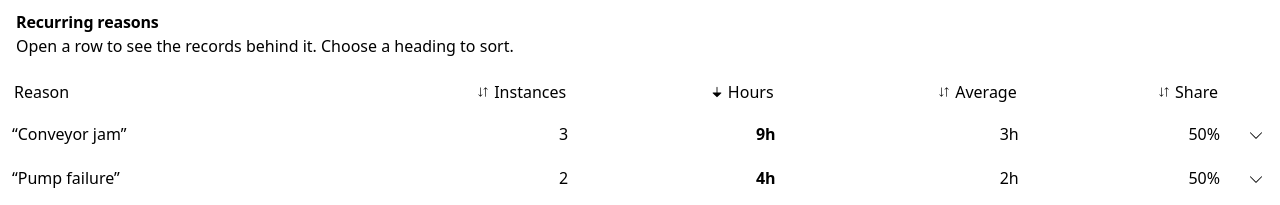
Test: CategoryTable stillKey (full motion) › starts the table over when the sort changes (no animation on sort)
The width and height of the screenshot is (1280, 205).
Click the button "Instances": {"x": 521, "y": 92} [470,79,572,105]
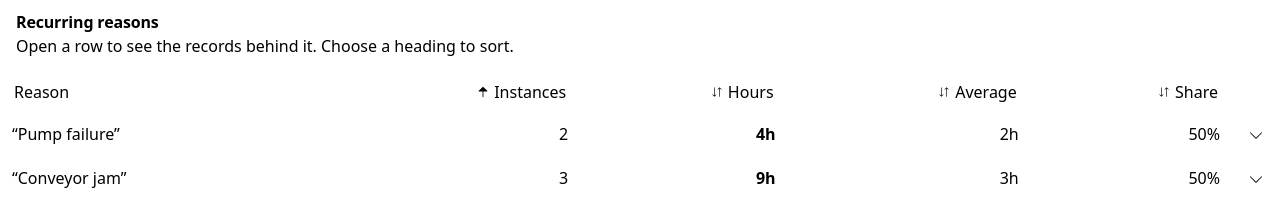
Expected: the row "“Pump failure” 2 4h 2h 50%" is shown, [0,113,1279,157]
